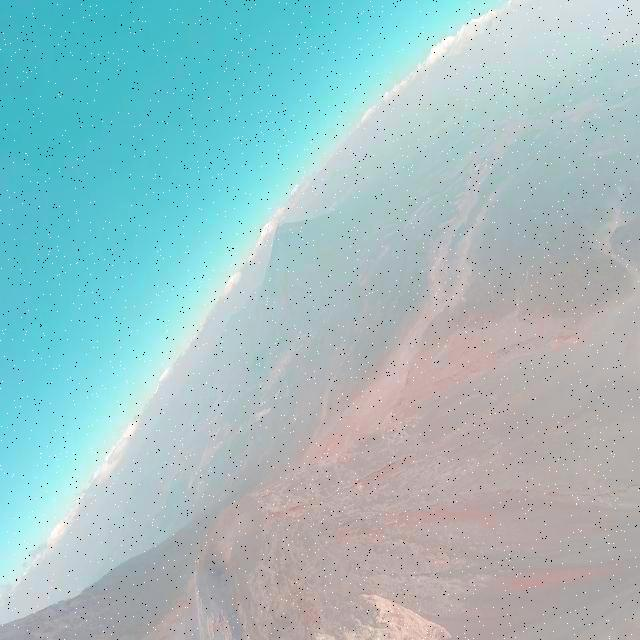Summit: (178, 475, 358, 640)
